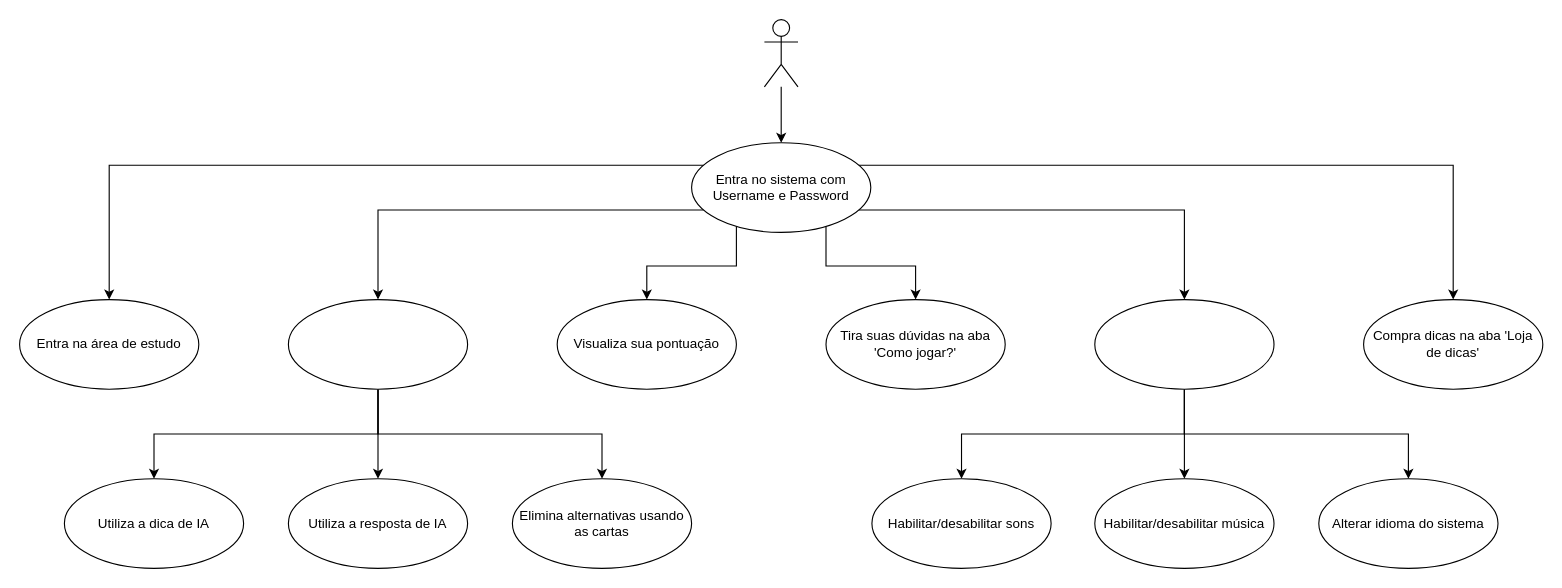
This 1562x588 diagram has some shape labels left out. Here are the shapes that lost their labels. From the top down, the centre of each, then its label:
At (780,52): "User".
At (377,343): "Responde os 5 desafios".
At (1184,343): "Altera as configurações do jogo".
